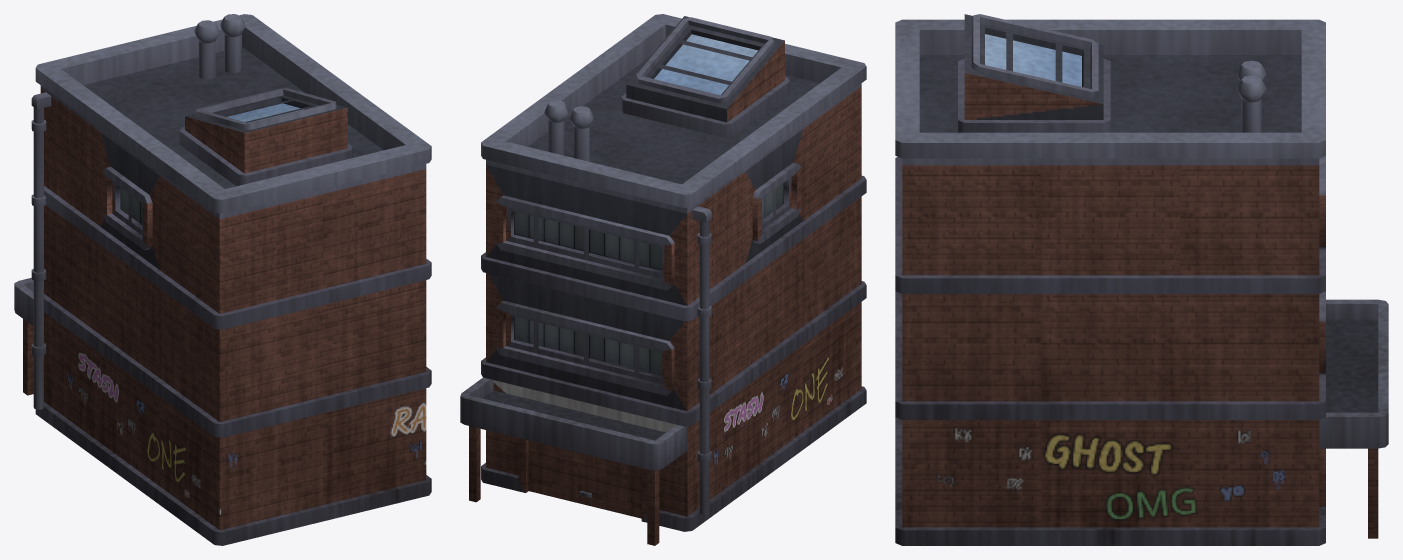
Rendered from building-d-brown-scuffed.glb.
3 renders of one model, left to right at view 1: azimuth 30°, elevation 25°; view 2: azimuth 150°, elevation 25°; view 3: azimuth 270°, elevation 25°, orthographic. The views are drawn at different scales.
Visible parts, largest first — view 1: building-d; view 2: building-d; view 3: building-d.
Part boxes in pixels (box(x1,y1,x2,y2)): building-d: box(14, 14, 431, 545); building-d: box(460, 14, 866, 545); building-d: box(895, 14, 1388, 545).
Size of the model in its own units: 0.8836 by 1.41 by 1.42.
1 material, 1 textured.
